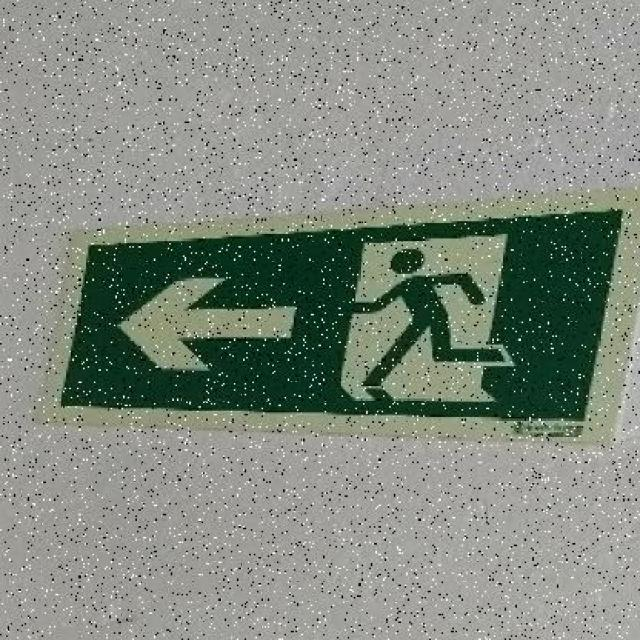emergency_exit: (58, 206, 626, 439)
